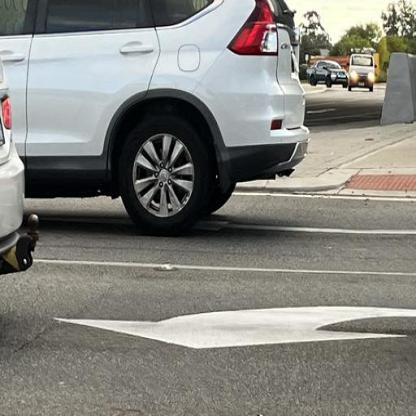Tire: (118, 111, 212, 235)
